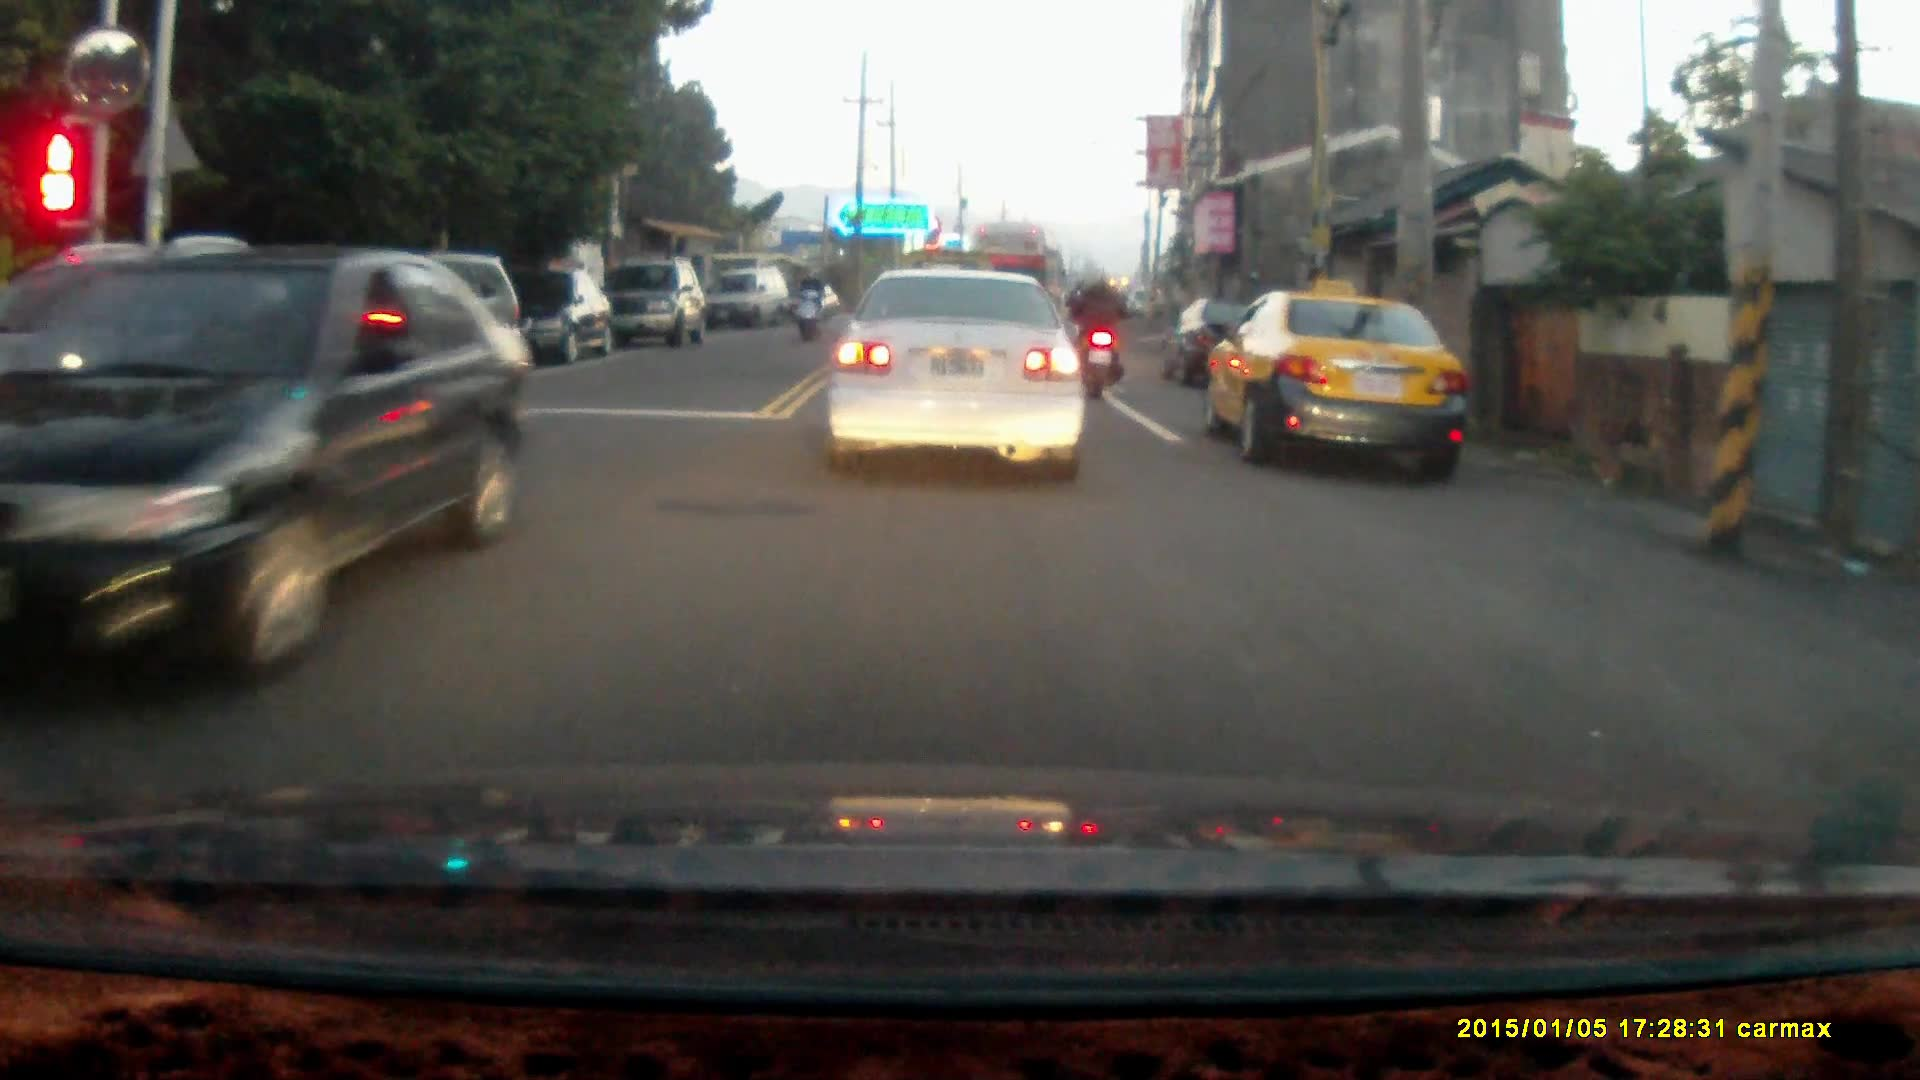rider: (1067, 263, 1128, 400), (789, 265, 824, 343)
vehicle: (1, 264, 542, 693), (822, 280, 1096, 496), (1210, 293, 1472, 480), (476, 268, 614, 370), (605, 263, 705, 357), (712, 271, 794, 333)
